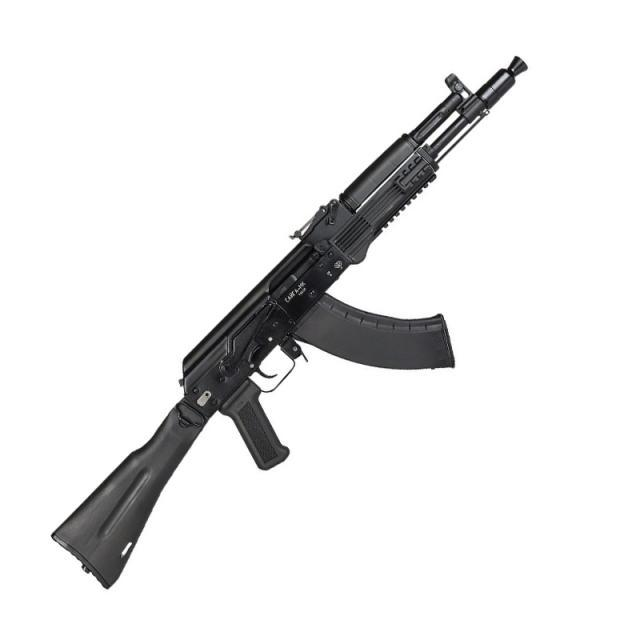weapon: (49, 56, 528, 590)
